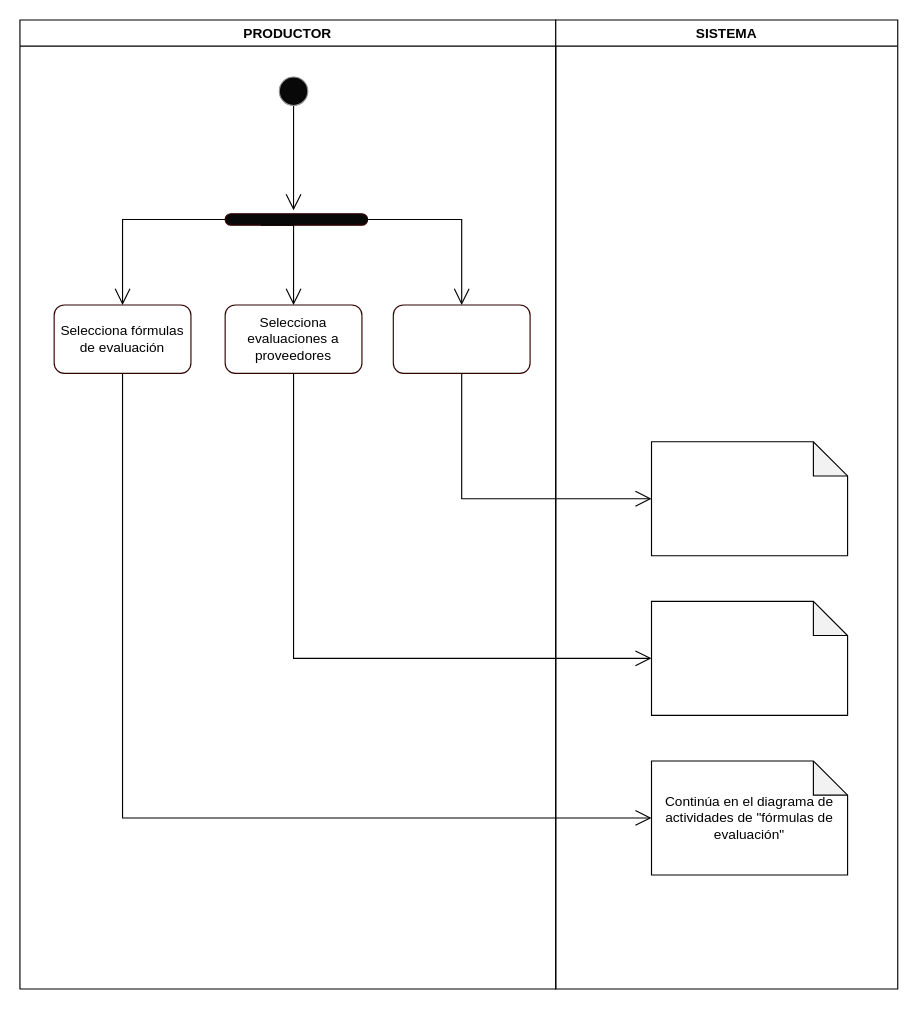
Image size: 918x1009. Some labels were removed from this diagram. The centre of each missing label's shape, as x and y in pixels:
Continúa en el diagrama de actividades de "contratos": point (749, 498)
Continúa en el diagrama de actividades de "evaluaciones a proveedores": point (749, 657)
Selecciona contratos: point (461, 338)
